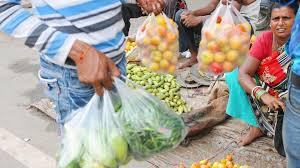Plastic bag: (58, 67, 184, 168), (195, 5, 253, 75), (128, 6, 182, 73)
